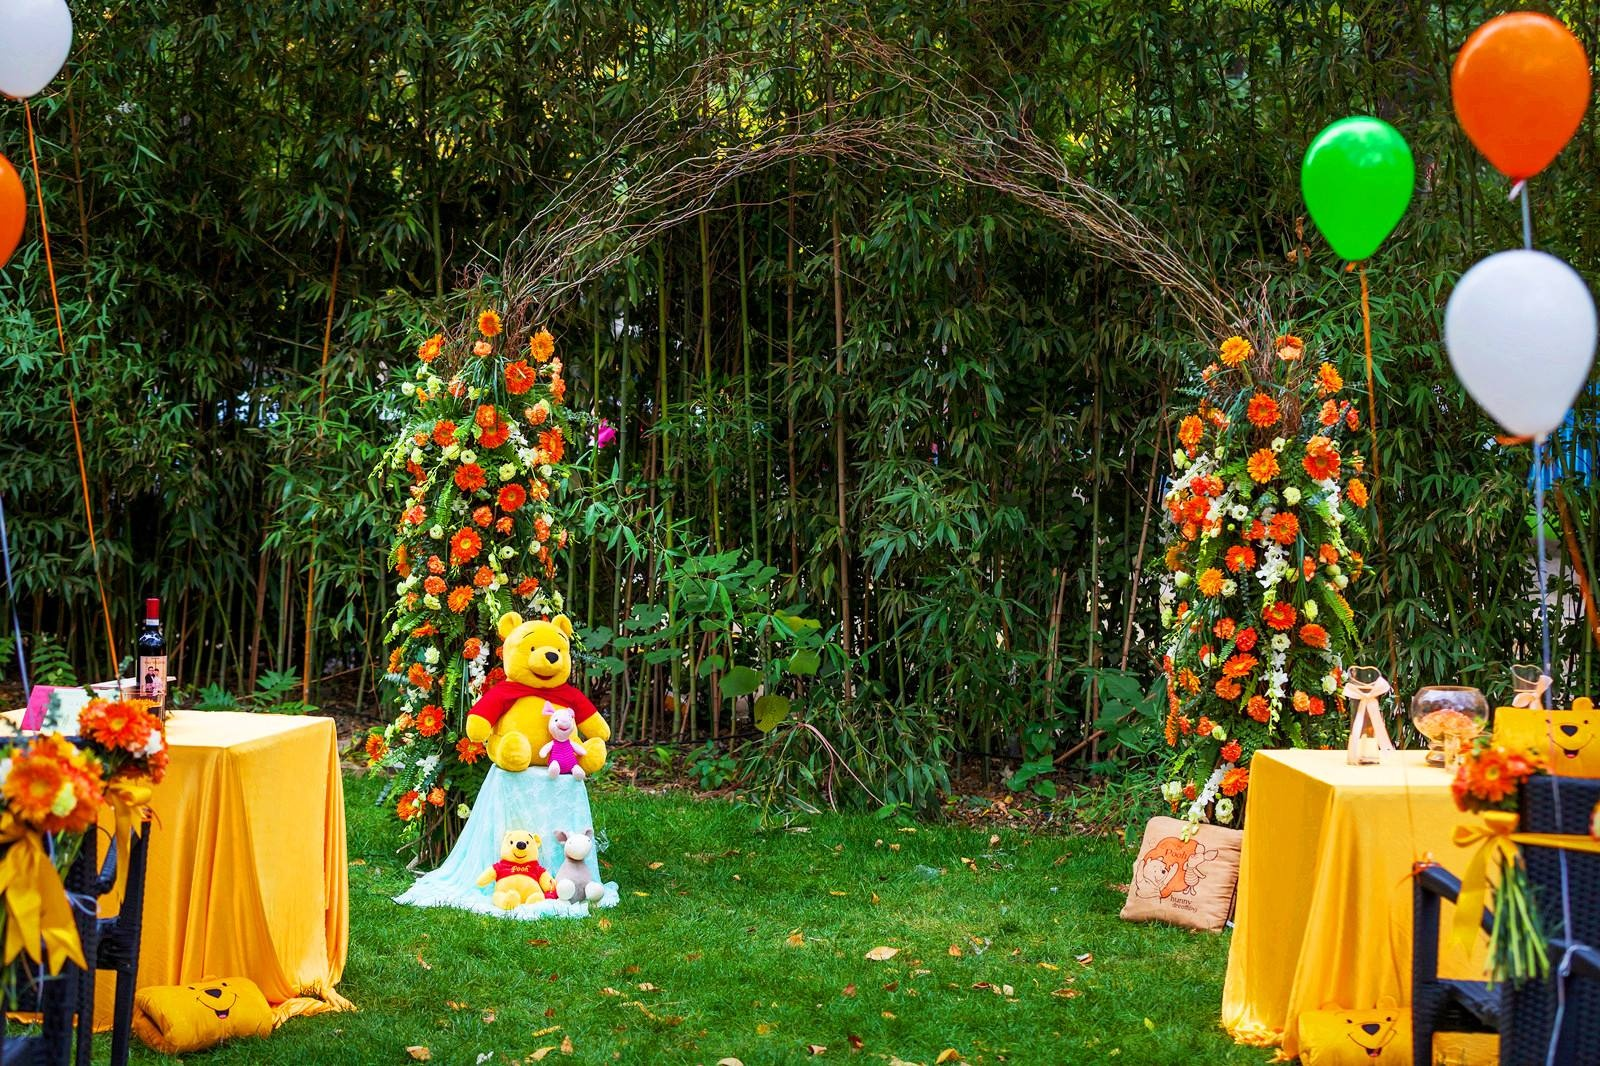falling: (409, 600, 636, 928)
